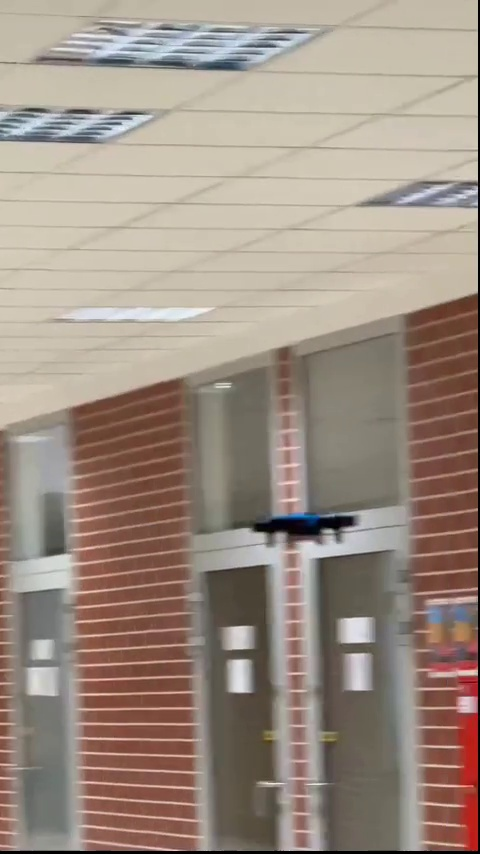drone: (251, 512, 353, 552)
